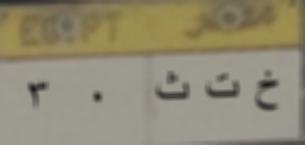0: (79, 79, 118, 113)
3: (14, 76, 55, 111)
khaa: (252, 66, 283, 116)
taa: (203, 71, 242, 104)
thaa: (152, 68, 195, 105)
